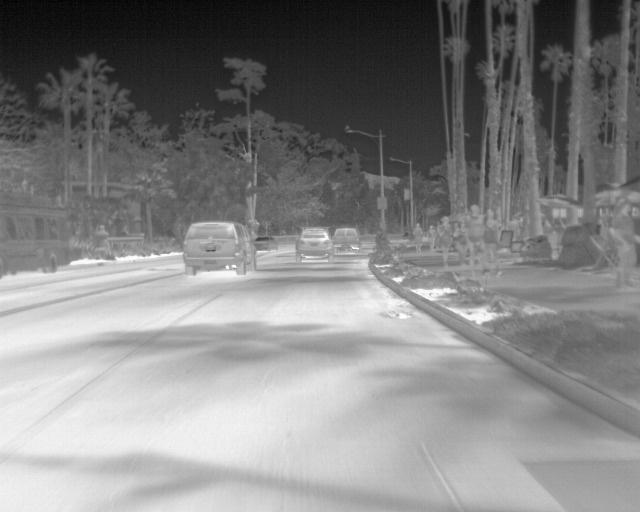bicycle: (181, 219, 257, 277), (291, 226, 331, 260), (331, 226, 362, 252), (255, 235, 278, 251)
empty: (611, 201, 639, 290), (482, 206, 502, 272), (434, 217, 456, 264), (468, 204, 483, 272), (410, 220, 424, 253), (424, 223, 439, 252)
